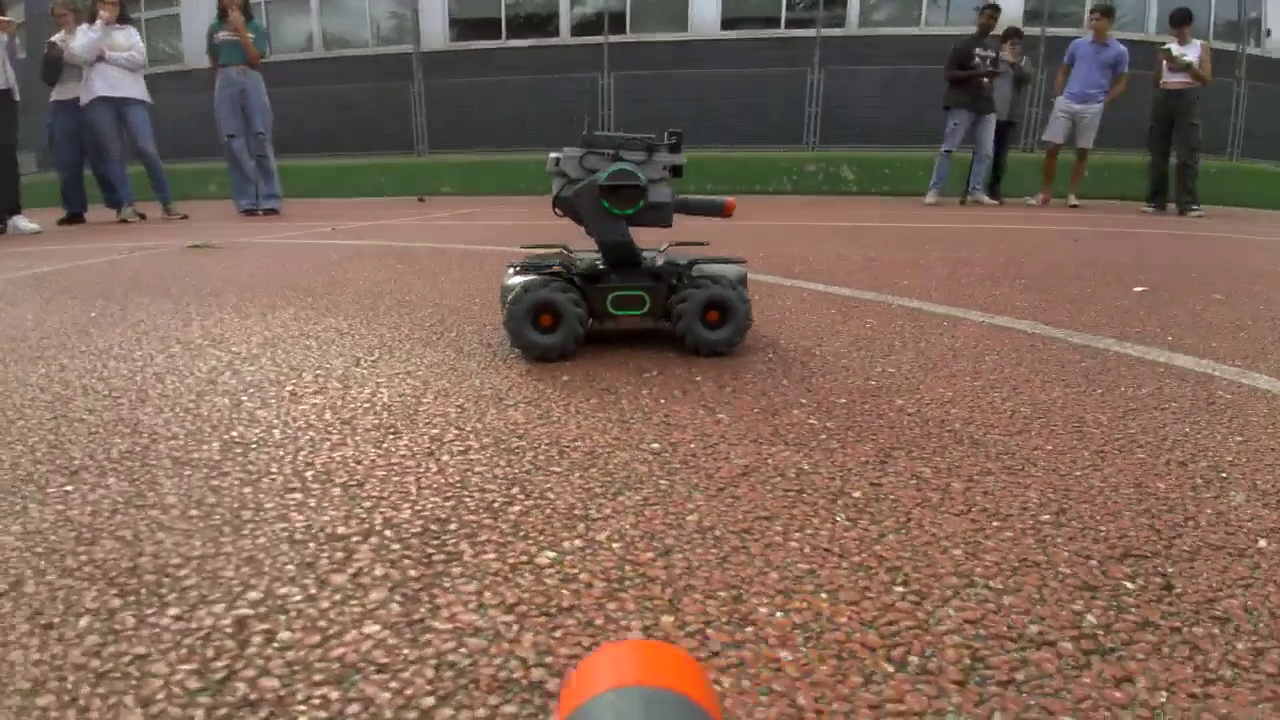robot: (500, 132, 750, 354)
